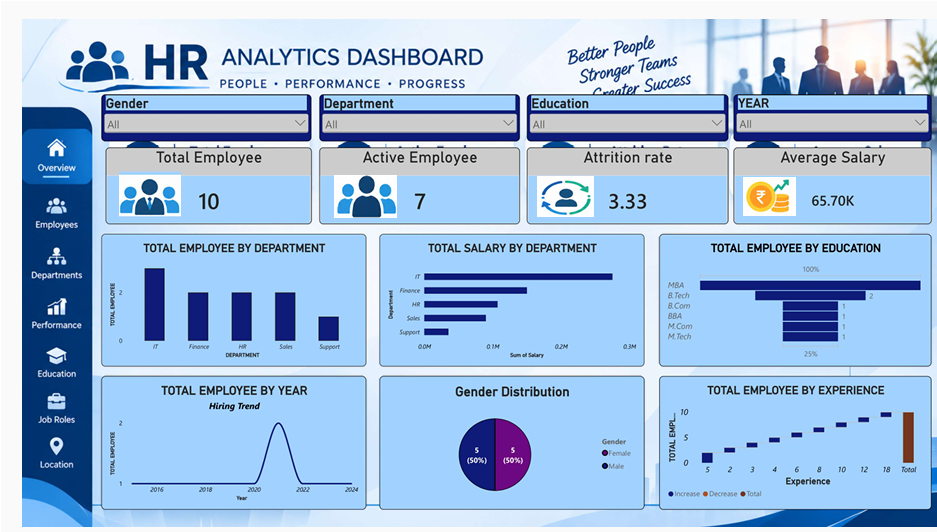

What the dashboard file says about the page in this screenshot:
{"tool":"powerbi","page":{"name":"dashboard","canvas":[1920,1080],"ordinal":0},"visuals":[{"type":"image","box":[41.9,34.9,1829.7,1015.1],"z":0},{"type":"cardVisual","title":"Total Employee","fields":{"Data":["HR_ANALYSIS.TOTAL EMPLOYEE"]},"box":[207.6,291.3,411.6,153.5],"z":1000},{"type":"image","box":[235.5,340.1,122.1,94.2],"z":2000},{"type":"cardVisual","title":" Active Employee","fields":{"Data":["HR_ANALYSIS.ACTIVE EMP"]},"box":[634.9,291.3,401.2,153.5],"z":3000},{"type":"image","box":[666.3,347.1,125.6,83.7],"z":4000},{"type":"cardVisual","title":"Attrition rate","fields":{"Data":["HR_ANALYSIS.ATTRITION RATE"]},"box":[1050,291.3,402.9,153.5],"z":5000},{"type":"image","box":[1070.9,347.1,113.4,87.2],"z":6000},{"type":"cardVisual","title":"Average Salary","fields":{"Data":["HR_ANALYSIS.Average salary"]},"box":[1463.4,291.3,395.9,153.5],"z":7000},{"type":"image","box":[1482.6,343.6,104.7,90.7],"z":8000},{"type":"columnChart","title":"TOTAL EMPLOYEE BY DEPARTMENT","fields":{"Category":["HR_ANALYSIS.Department"],"Y":["HR_ANALYSIS.TOTAL EMPLOYEE"]},"box":[198.8,464,530.2,265.1],"z":9000},{"type":"barChart","title":"TOTAL SALARY BY DEPARTMENT","fields":{"Category":["HR_ANALYSIS.Department"],"Y":["Sum(HR_ANALYSIS.Salary)"]},"box":[755.2,464,530.2,265.1],"z":10000},{"type":"funnel","title":"TOTAL EMPLOYEE BY EDUCATION","fields":{"Category":["HR_ANALYSIS.Education"],"Y":["HR_ANALYSIS.TOTAL EMPLOYEE"]},"box":[1315.1,464,544.2,265.1],"z":11000},{"type":"pieChart","title":"Gender Distribution","fields":{"Category":["HR_ANALYSIS.Gender"],"Y":["HR_ANALYSIS.TOTAL EMPLOYEE"]},"box":[755.2,748.3,530.2,266.9],"z":12000},{"type":"lineChart","title":"TOTAL EMPLOYEE BY YEAR","fields":{"Category":["HR_ANALYSIS.Joining Date.Variation.Date Hierarchy.Year"],"Y":["HR_ANALYSIS.TOTAL EMPLOYEE"]},"box":[198.8,748.3,530.2,266.9],"z":13000},{"type":"waterfallChart","title":"TOTAL EMPLOYEE BY EXPERIENCE","fields":{"Category":["HR_ANALYSIS.Experience"],"Y":["HR_ANALYSIS.TOTAL EMPLOYEE"]},"box":[1315.1,748.3,544.2,266.9],"z":14000},{"type":"slicer","fields":{"Values":["HR_ANALYSIS.Gender"]},"box":[198.8,184.9,420.4,94.2],"z":15000},{"type":"slicer","fields":{"Values":["HR_ANALYSIS.Department"]},"box":[634.9,184.9,401.2,94.2],"z":16000},{"type":"slicer","fields":{"Values":["HR_ANALYSIS.Education"]},"box":[1050,184.9,402.9,94.2],"z":17000},{"type":"slicer","fields":{"Values":["DATE TABLE.YEAR"]},"box":[1463.4,184.9,395.9,94.2],"z":18000}]}

Visuals, with their boxes on the page's 1920x1080 design canvas (x1, y1, x2, y2). These are canvas units, not pixel positions in the 937x532 screenshot, which may show the page scaled, cropped or inside an application window:
image: <box>42,35,1872,1050</box>
"Total Employee" cardVisual: <box>208,291,619,445</box>
image: <box>236,340,358,434</box>
" Active Employee" cardVisual: <box>635,291,1036,445</box>
image: <box>666,347,792,431</box>
"Attrition rate" cardVisual: <box>1050,291,1453,445</box>
image: <box>1071,347,1184,434</box>
"Average Salary" cardVisual: <box>1463,291,1859,445</box>
image: <box>1483,344,1587,434</box>
"TOTAL EMPLOYEE BY DEPARTMENT" columnChart: <box>199,464,729,729</box>
"TOTAL SALARY BY DEPARTMENT" barChart: <box>755,464,1285,729</box>
"TOTAL EMPLOYEE BY EDUCATION" funnel: <box>1315,464,1859,729</box>
"Gender Distribution" pieChart: <box>755,748,1285,1015</box>
"TOTAL EMPLOYEE BY YEAR" lineChart: <box>199,748,729,1015</box>
"TOTAL EMPLOYEE BY EXPERIENCE" waterfallChart: <box>1315,748,1859,1015</box>
slicer - HR_ANALYSIS.Gender: <box>199,185,619,279</box>
slicer - HR_ANALYSIS.Department: <box>635,185,1036,279</box>
slicer - HR_ANALYSIS.Education: <box>1050,185,1453,279</box>
slicer - DATE TABLE.YEAR: <box>1463,185,1859,279</box>
